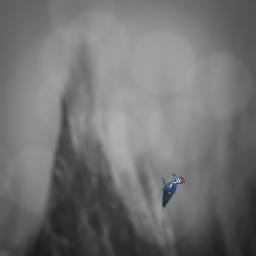Woodpecker: (161, 172, 185, 209)
